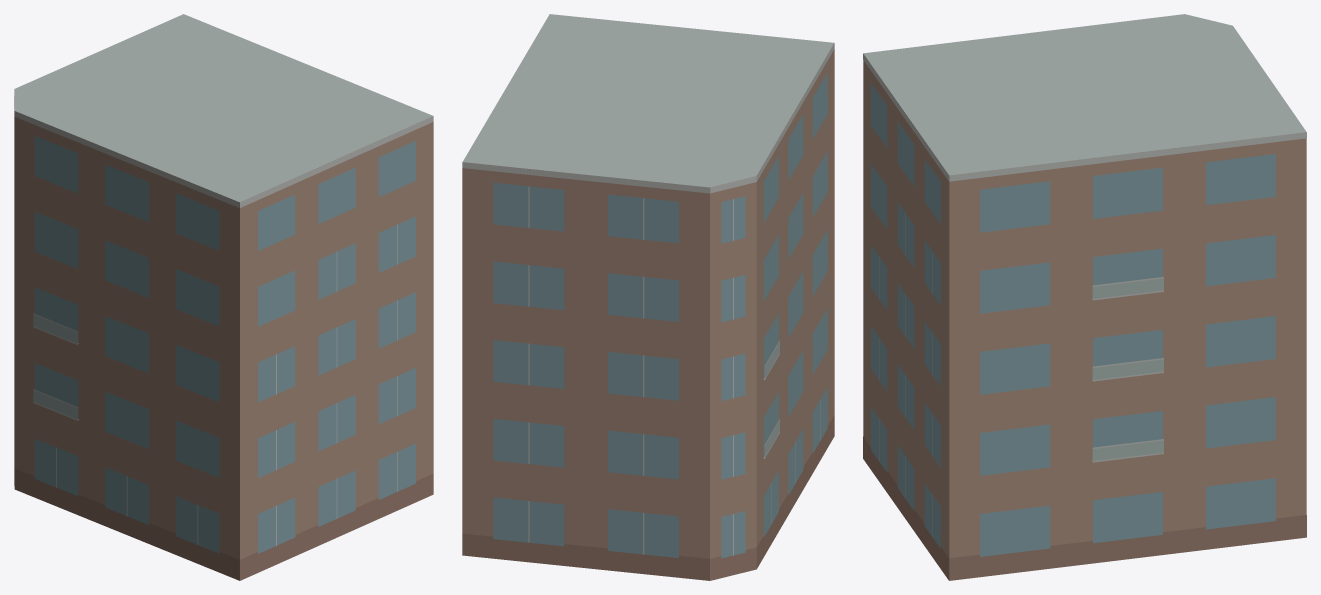
File: survey-upis-33020845.glb
3 renders of one model, left to right at view 1: azimuth 30°, elevation 25°; view 2: azimuth 150°, elevation 25°; view 3: azimuth 270°, elevation 25°, orthographic. The views are drawn at different scales.
Visible parts, largest first — view 1: survey-upis-33020845.tmp; view 2: survey-upis-33020845.tmp; view 3: survey-upis-33020845.tmp.
Part boxes in pixels (box(x1,y1,x2,y2)): survey-upis-33020845.tmp: box(14, 14, 433, 580); survey-upis-33020845.tmp: box(462, 14, 834, 580); survey-upis-33020845.tmp: box(863, 14, 1306, 580).
Size of the model in its own units: 13.68 by 16 by 15.88.
